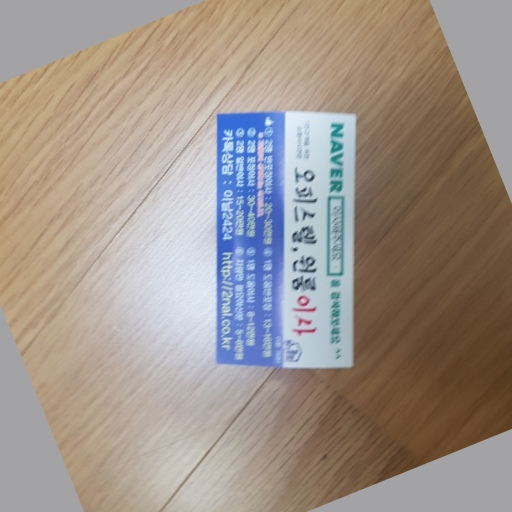Paper_2: (206, 100, 366, 394)
